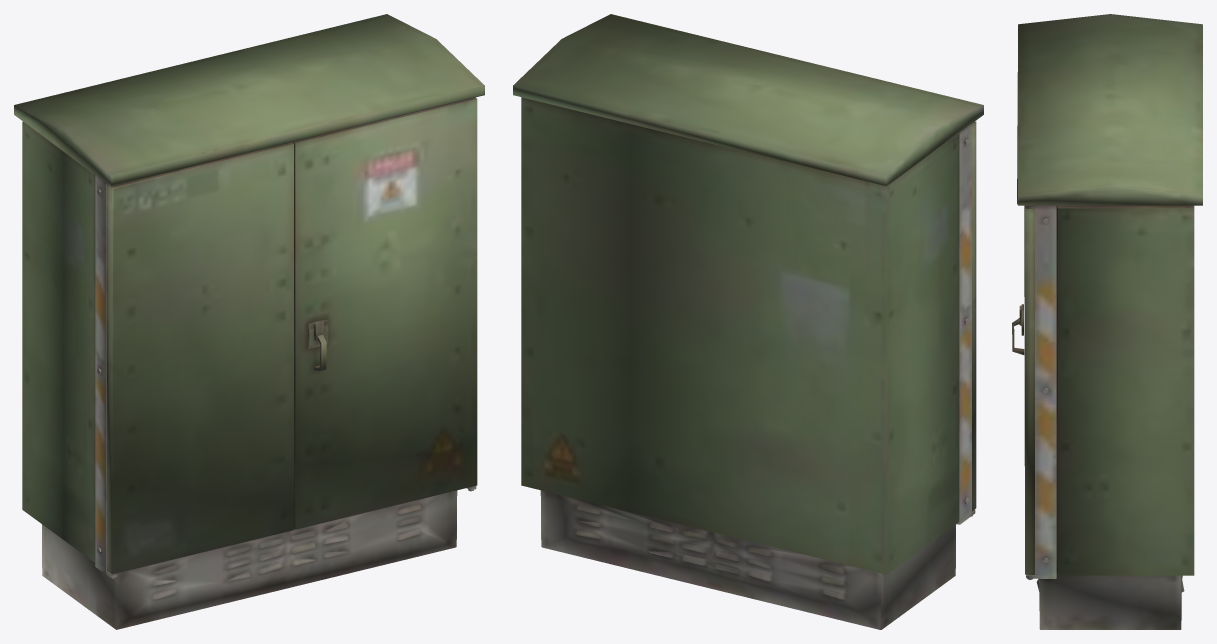
Rendered from utilityBox_lo.glb.
3 renders of one model, left to right at view 1: azimuth 30°, elevation 25°; view 2: azimuth 150°, elevation 25°; view 3: azimuth 270°, elevation 25°, orthographic. The views are drawn at different scales.
Parts seen in each view (by area): view 1: utility_box_02; view 2: utility_box_02; view 3: utility_box_02.
Boxes of the visible parts, x1,y1,x2,y2 form: utility_box_02: (14,14,484,629); utility_box_02: (513,14,983,629); utility_box_02: (1012,14,1202,629).
Bounding box in the file's own units: 0.9165 × 1.12 × 0.4287.
1 material, 1 textured.
